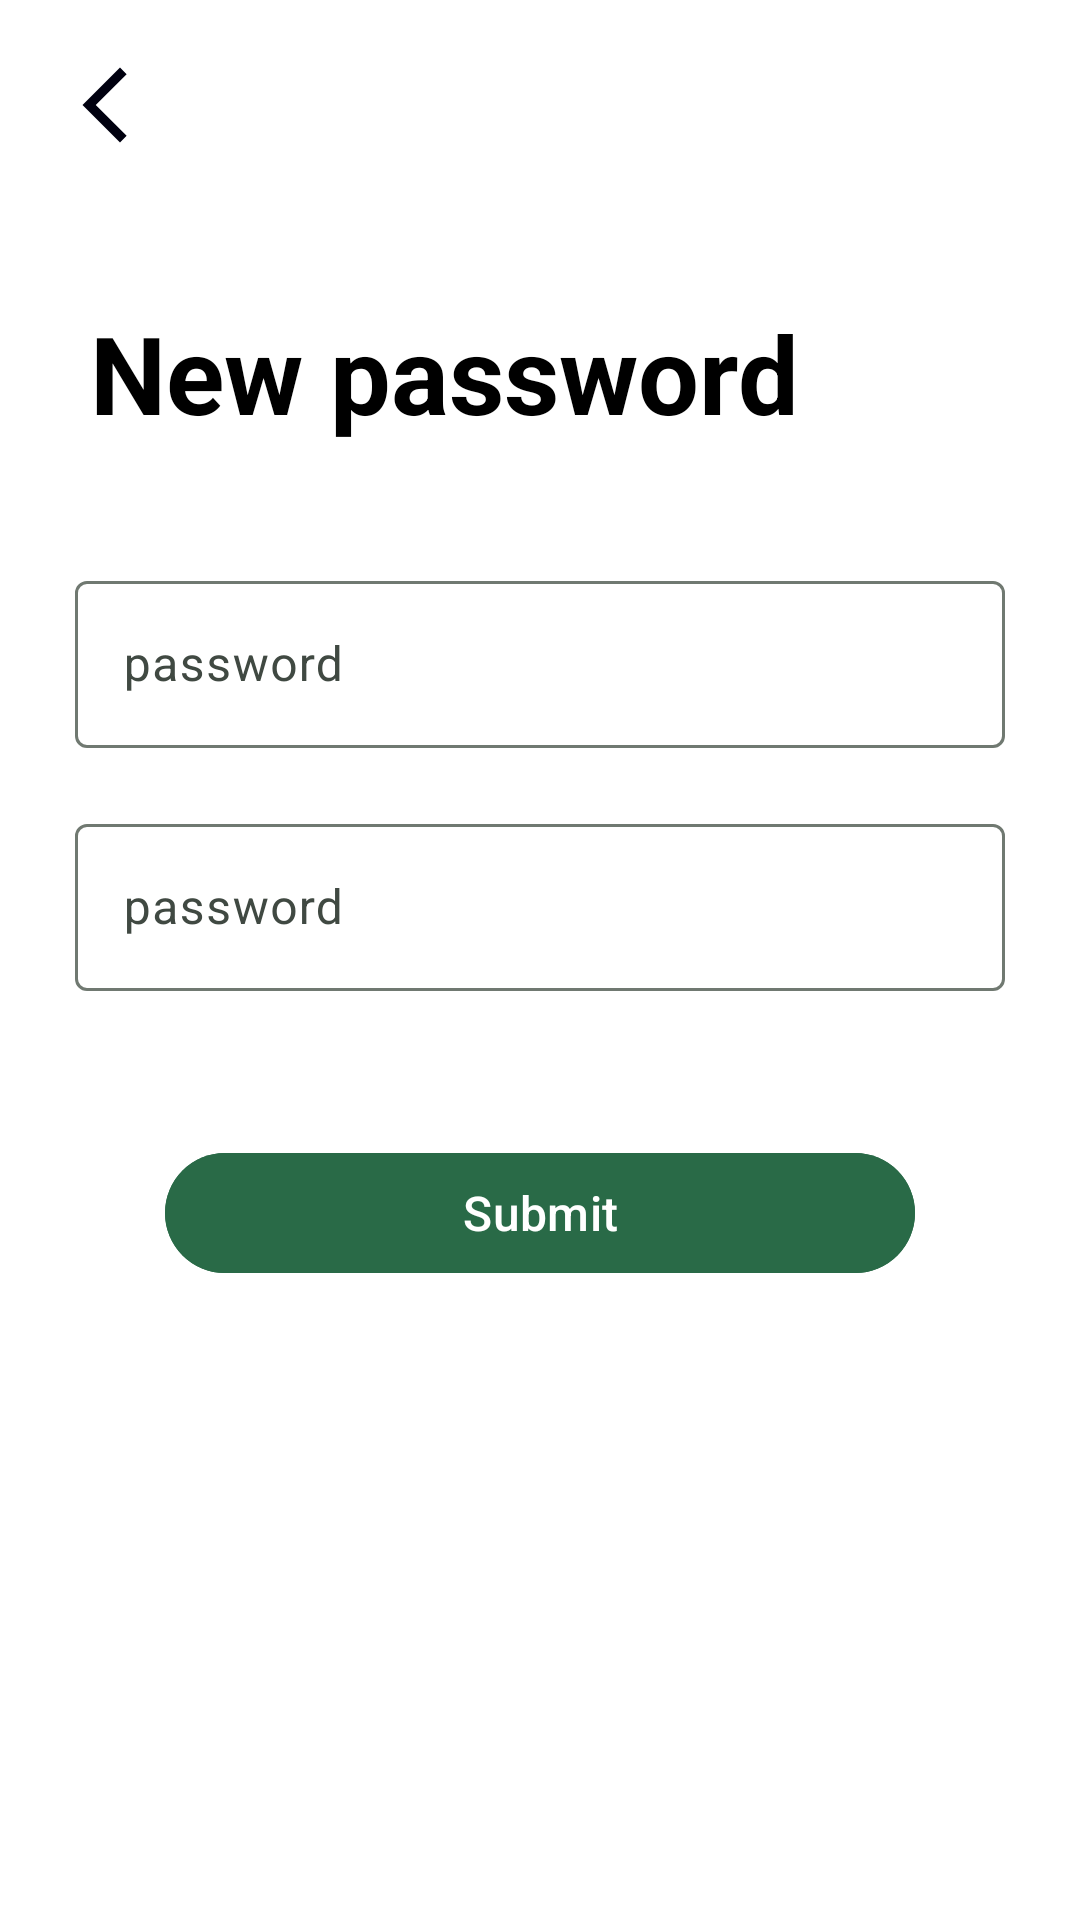

Screen size 1080w x 1920h. Icon name, then its box in pixels as (x1, y1, x2, y2):
back: (82, 67, 127, 143)
